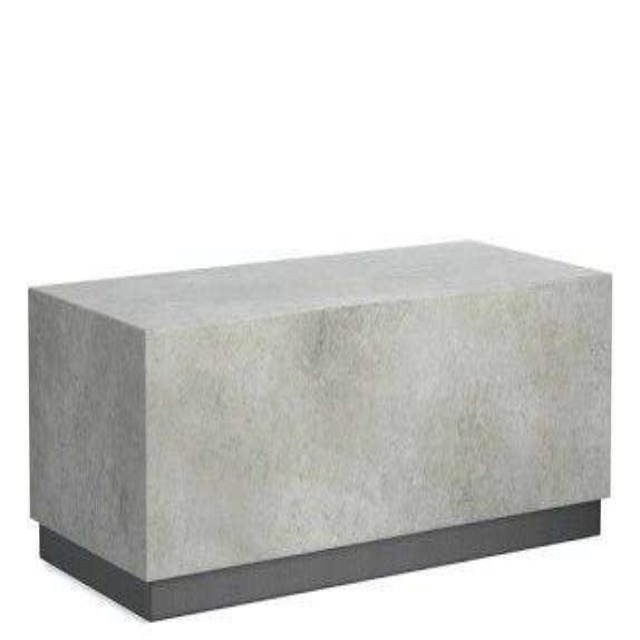obstacle: (29, 241, 610, 619)
